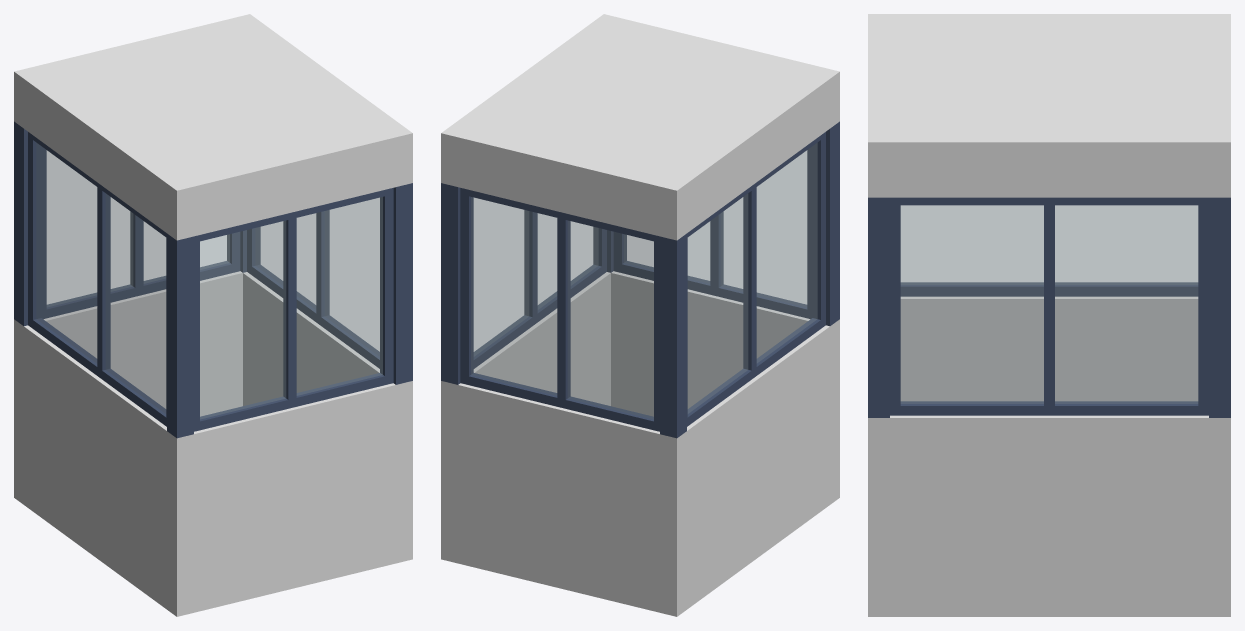
Rendered from guard.glb.
The picture shows the model from 3 angles, left to right: view 1: azimuth 30°, elevation 25°; view 2: azimuth 150°, elevation 25°; view 3: azimuth 270°, elevation 25°; orthographic projection. The views are drawn at different scales.
Parts seen in each view (by area): view 1: MenWei; view 2: MenWei; view 3: MenWei.
Part boxes in pixels (left/top/right/bottom): MenWei: left=14, top=14, right=412, bottom=616; MenWei: left=441, top=14, right=839, bottom=616; MenWei: left=868, top=14, right=1230, bottom=616.
Bounding box in the file's own units: 1.39 × 2.4 × 1.66.
